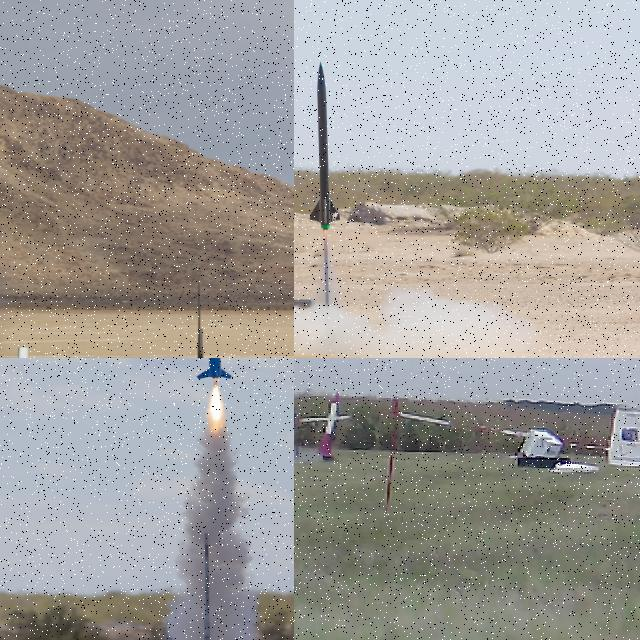Rocket: (308, 60, 340, 230), (315, 389, 339, 456), (196, 358, 233, 379), (294, 404, 297, 443)
